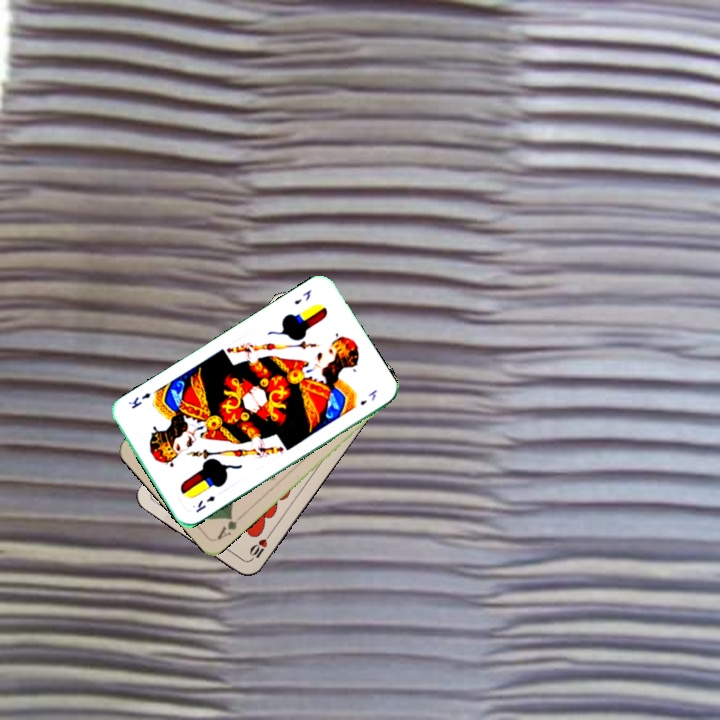EK: (192, 491, 218, 515), (290, 286, 314, 307)
GA: (213, 511, 245, 542)
H10: (245, 529, 273, 564)
